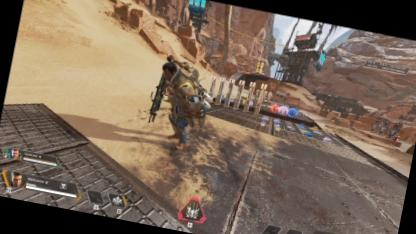Target: (150, 57, 212, 152)
